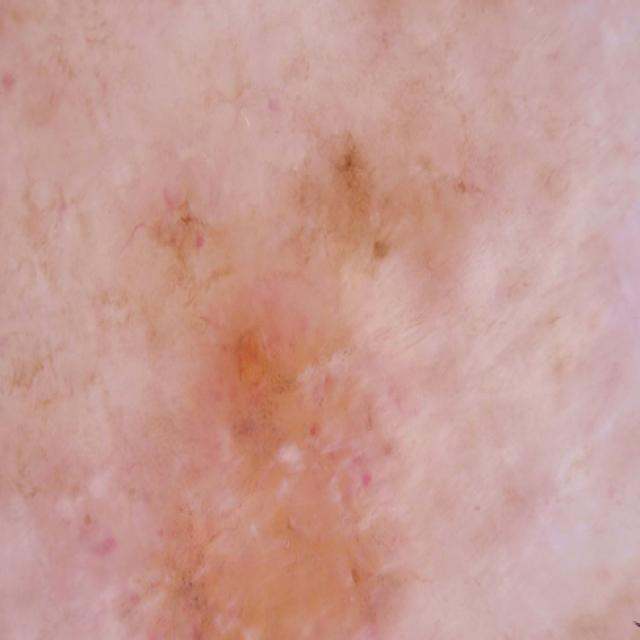Carcinoma: (26, 117, 532, 640)
